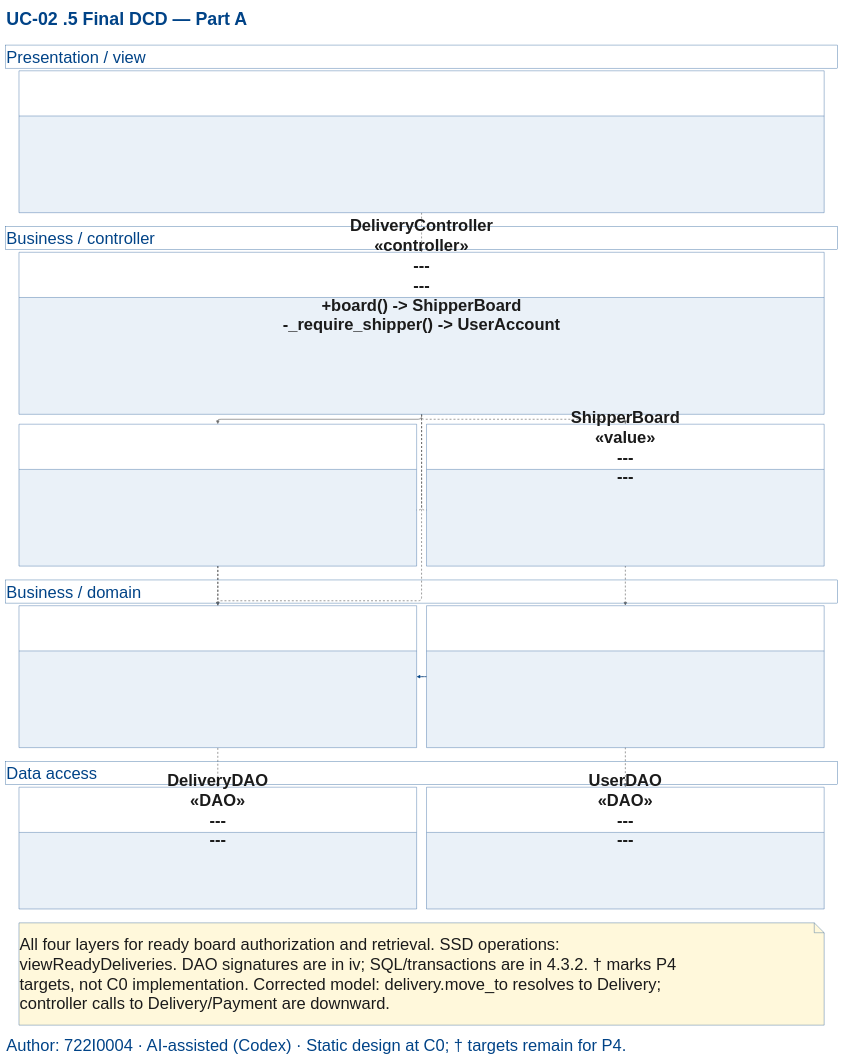
Image size: 843x1061. Some labels were removed from this diagram. The box of each missing label's shape, as (x1, y1, x2, y2) in pixels:
BaseController «controller» --- --- -_require_user() -> UserAccount: (19, 424, 417, 566)
Delivery «entity» --- +state: DeliveryState ---: (426, 605, 824, 748)
delivery «view» --- --- +board() *: (19, 70, 824, 213)
UserAccount «entity» --- ---: (19, 605, 417, 748)
